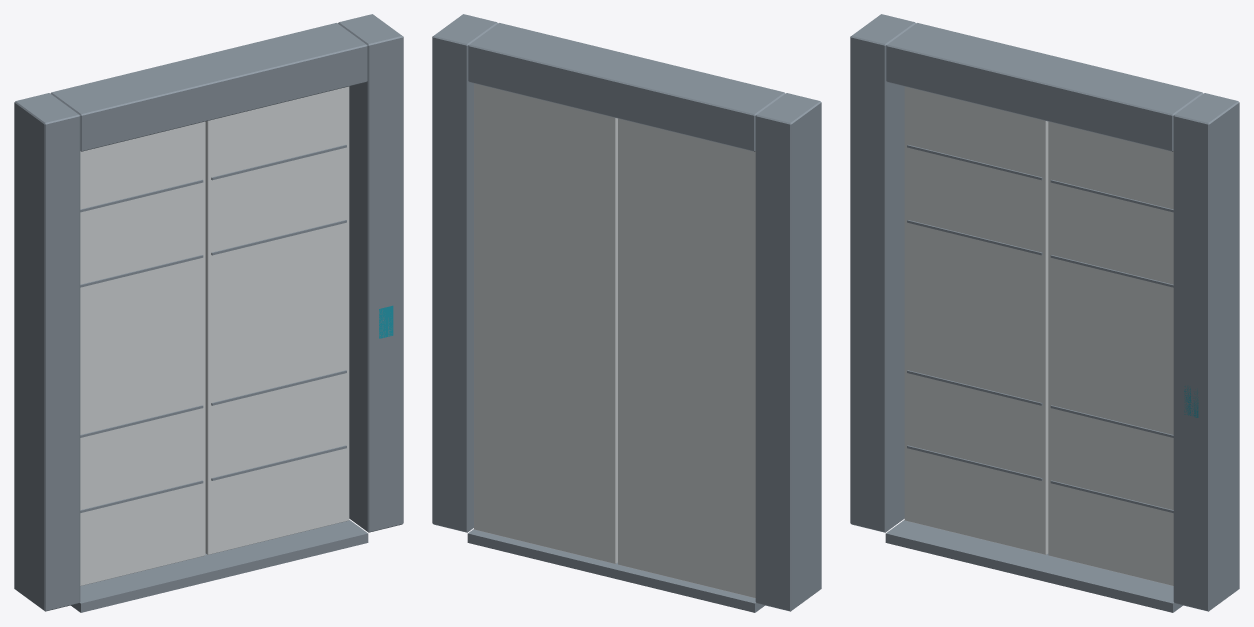
File: elevator-entrance.v1.glb
3 views of the same model, side by side, from view 1: azimuth 30°, elevation 25°; view 2: azimuth 150°, elevation 25°; view 3: azimuth 330°, elevation 25° (orthographic).
Visible parts, largest first — view 1: door_right, door_left, mesh_frame_-0.9, mesh_frame_0.9, mesh_lintel, mesh_threshold; view 2: door_right, door_left, mesh_frame_-0.9, mesh_frame_0.9, mesh_lintel, mesh_threshold; view 3: door_left, door_right, mesh_frame_0.9, mesh_frame_-0.9, mesh_lintel, mesh_threshold.
Part boxes in pixels (left/top/right/bottom): door_right: left=205, top=86, right=349, bottom=554; door_left: left=80, top=121, right=205, bottom=585; mesh_frame_-0.9: left=14, top=93, right=80, bottom=611; mesh_frame_0.9: left=338, top=14, right=403, bottom=532; mesh_lintel: left=50, top=23, right=367, bottom=151; mesh_threshold: left=71, top=520, right=368, bottom=612; door_right: left=474, top=83, right=617, bottom=563; door_left: left=618, top=118, right=755, bottom=598; mesh_frame_-0.9: left=755, top=93, right=821, bottom=611; mesh_frame_0.9: left=432, top=14, right=497, bottom=532; mesh_lintel: left=468, top=23, right=785, bottom=151; mesh_threshold: left=467, top=529, right=764, bottom=612; door_left: left=904, top=86, right=1048, bottom=554; door_right: left=1048, top=121, right=1173, bottom=585; mesh_frame_0.9: left=1173, top=93, right=1239, bottom=611; mesh_frame_-0.9: left=850, top=14, right=915, bottom=532; mesh_lintel: left=886, top=23, right=1203, bottom=151; mesh_threshold: left=885, top=520, right=1182, bottom=612.
Bounding box in the file's own units: 2 × 2.65 × 0.3.
